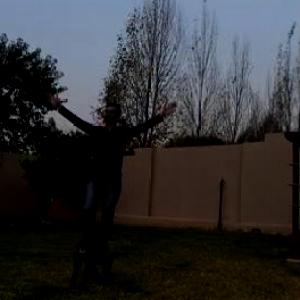takeoff: (16, 59, 178, 260)
